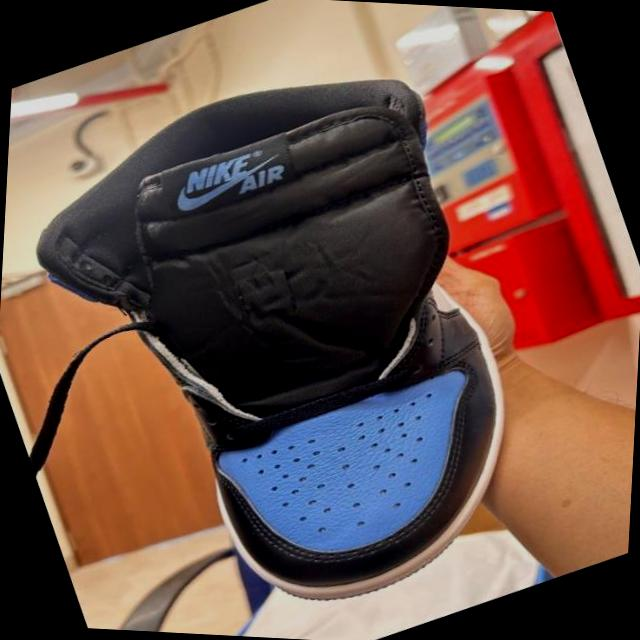nike_original_jordan: (0, 4, 592, 640)
